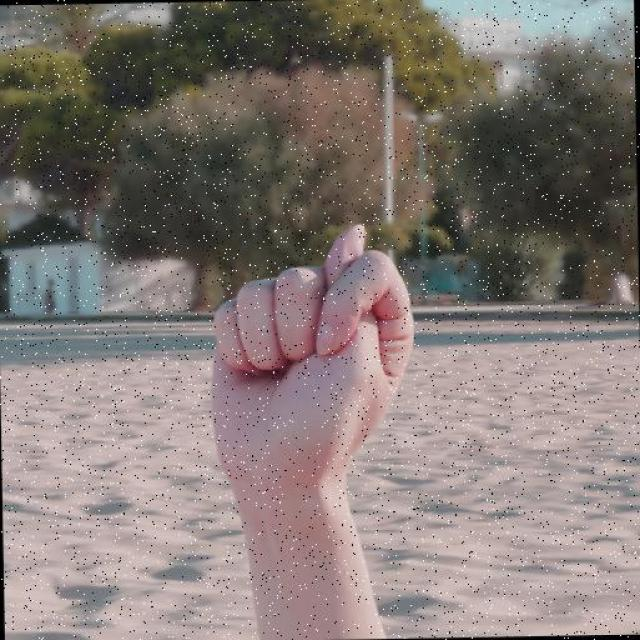T: (202, 216, 423, 494)
